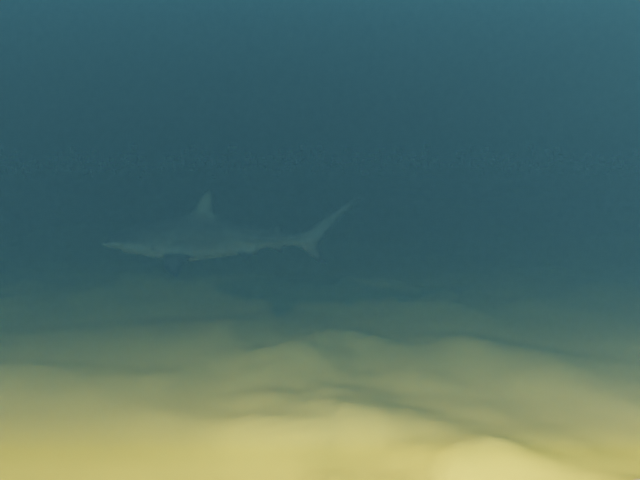Carribean Shark.001: (101, 188, 361, 276)
